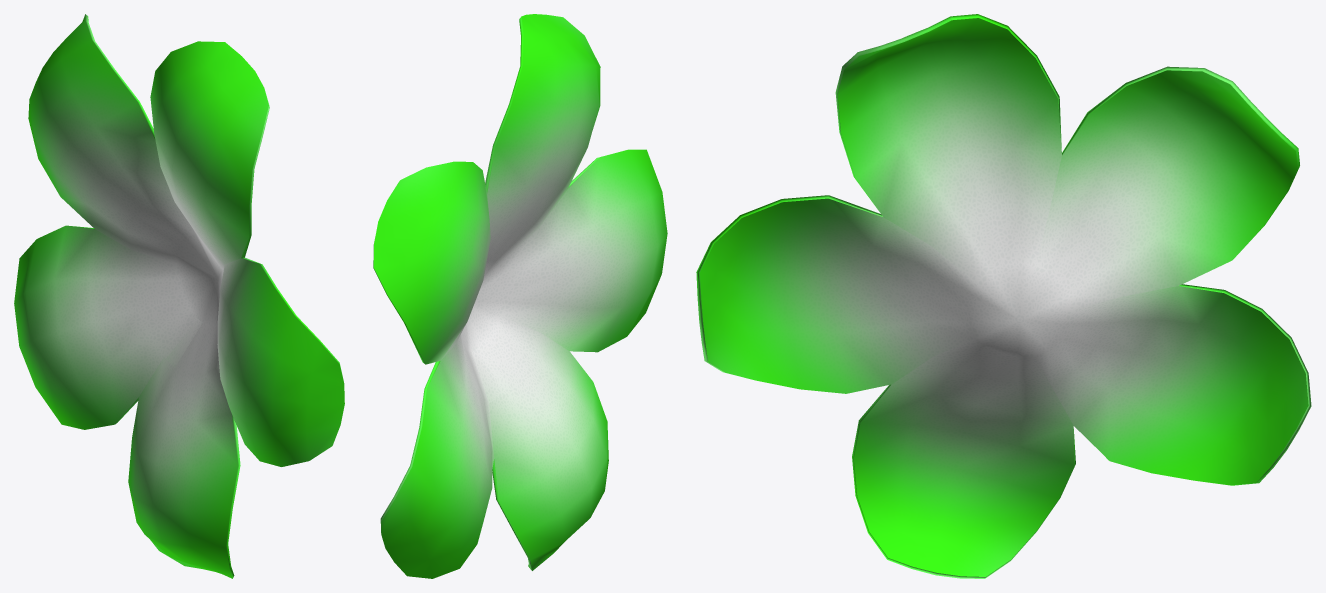
File: SM_fleur.fbx
3 renders of one model, left to right at view 1: azimuth 30°, elevation 25°; view 2: azimuth 150°, elevation 25°; view 3: azimuth 270°, elevation 25°, orthographic. The views are drawn at different scales.
Parts seen in each view (by area): view 1: COLLIER_FLEUR.002; view 2: COLLIER_FLEUR.002; view 3: COLLIER_FLEUR.002.
Boxes of the visible parts, x1,y1,x2,y2 form: COLLIER_FLEUR.002: (14,14,344,578); COLLIER_FLEUR.002: (373,14,667,578); COLLIER_FLEUR.002: (696,14,1311,578).
Bounding box in the file's own units: 5.33 × 26.11 × 25.28.
